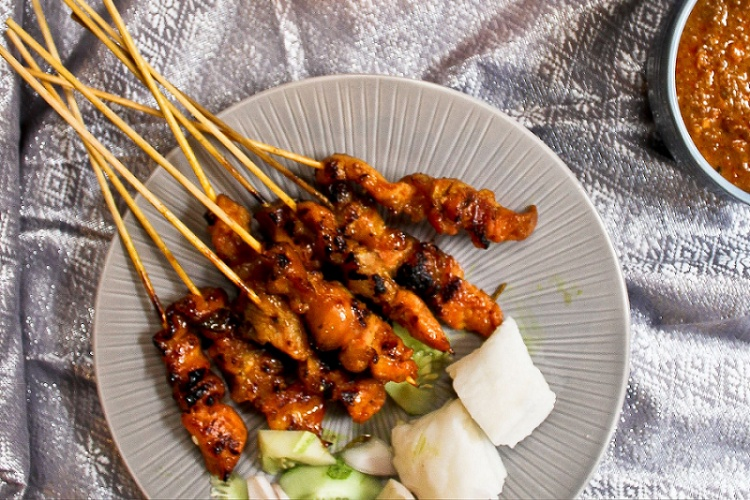sate: (150, 151, 539, 474)
